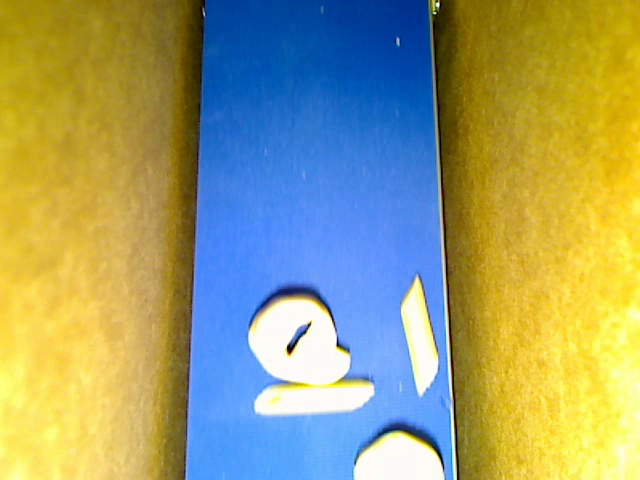penne: (253, 377, 374, 417), (400, 273, 439, 397)
tortellini: (248, 295, 349, 386)
